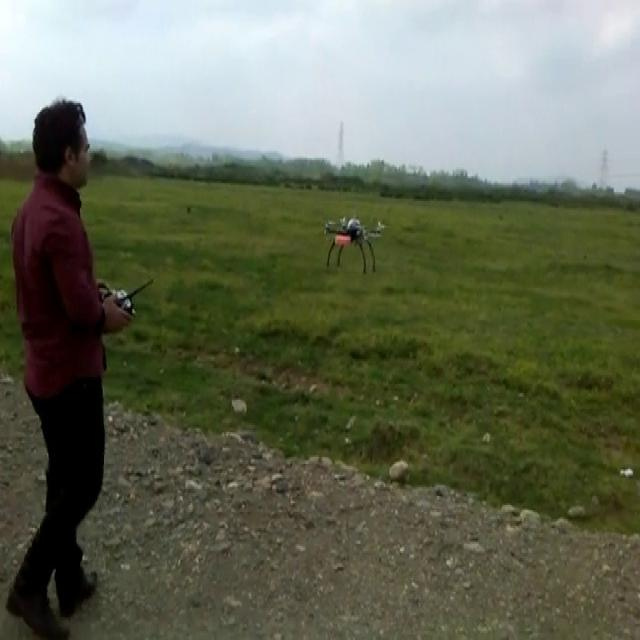drone: (316, 213, 388, 274)
